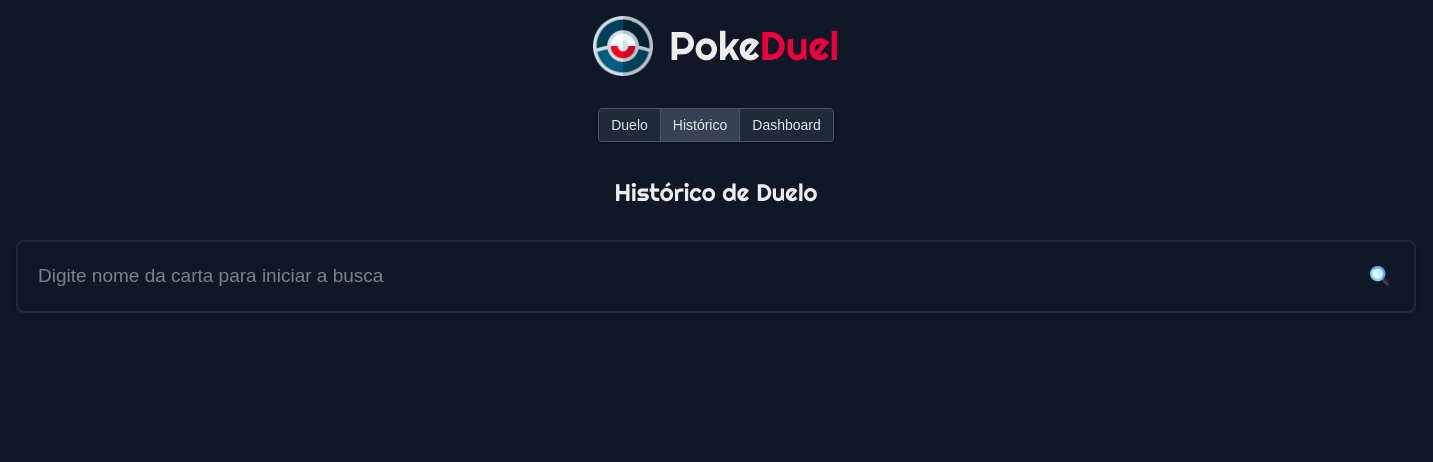
Scenario: HistoricoPage › deve filtrar duelos com base no texto digitado
Type "Pik" into the field with placeholder "Digite nome da carta para iniciar a busca" at (696, 276), box x1=30 y1=254 x2=1362 y2=298
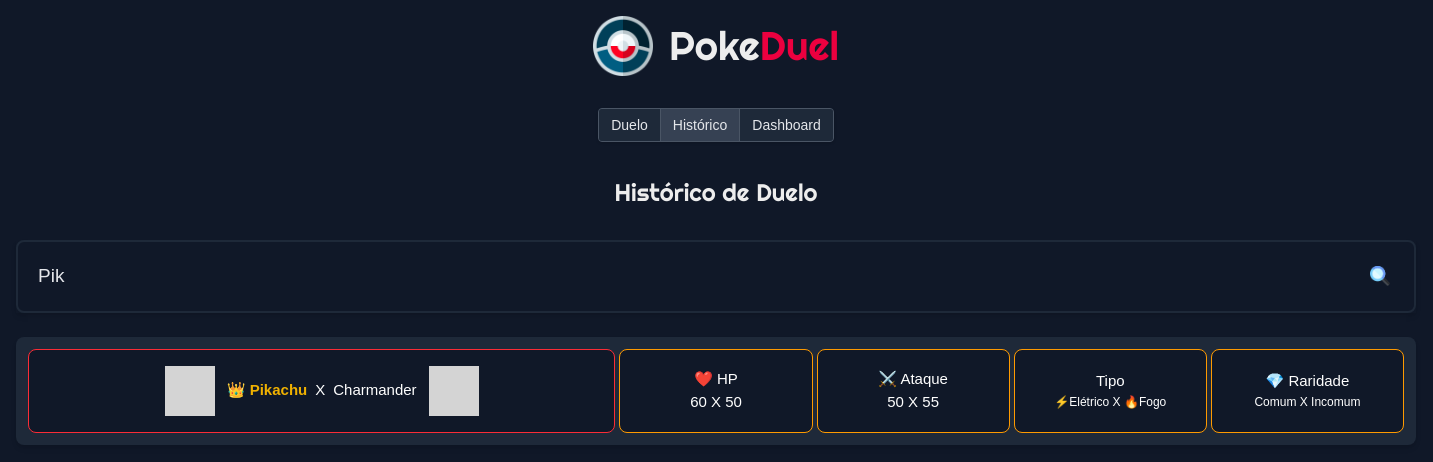
Check: the text "👑 Pikachu" is shown, box x1=227 y1=379 x2=307 y2=402
Check: the text "Charmander" is shown, box x1=333 y1=379 x2=417 y2=402
